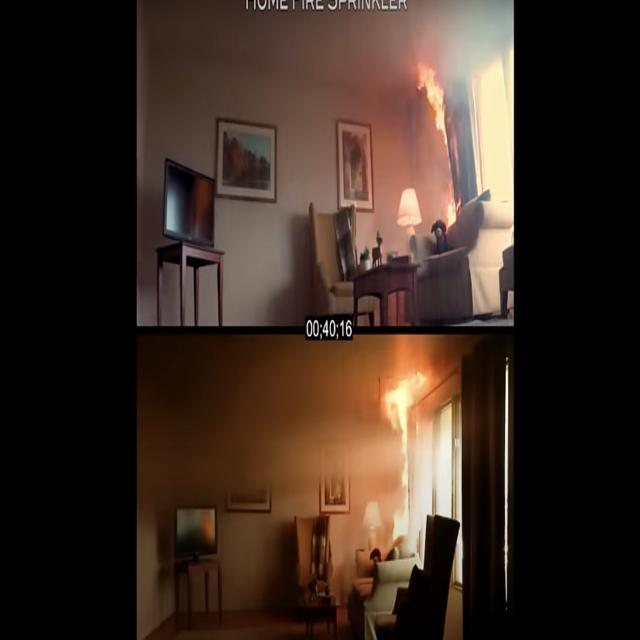Fogo: (363, 344, 451, 553), (398, 33, 478, 262)
